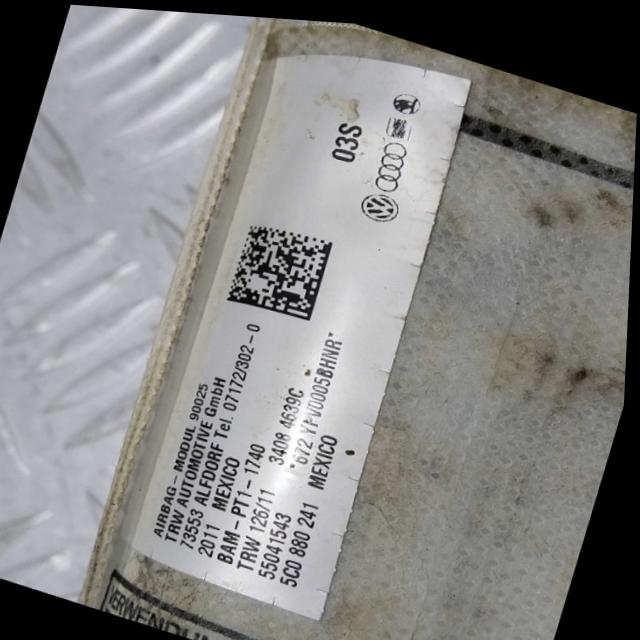datamatrix: (229, 211, 338, 323)
